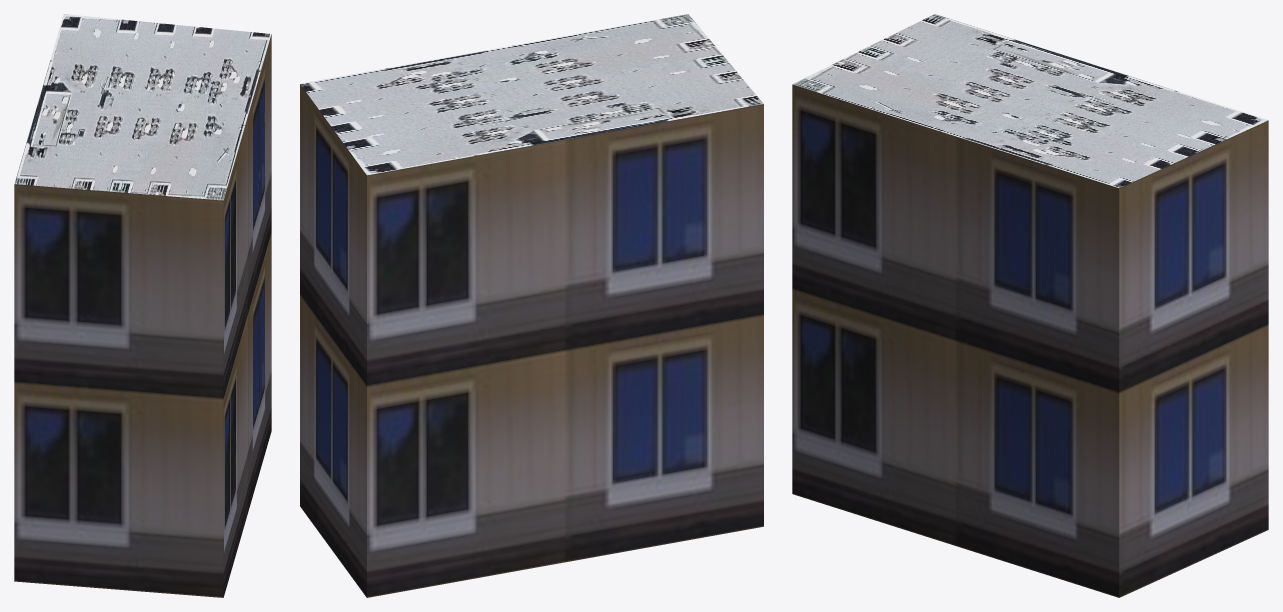
Rendered from ResTex__850.fbx.
3 renders of one model, left to right at view 1: azimuth 30°, elevation 25°; view 2: azimuth 150°, elevation 25°; view 3: azimuth 270°, elevation 25°, orthographic. The views are drawn at different scales.
Parts seen in each view (by area): view 1: CityEngineMaterial_5_m, CityEngineMaterial_4_m; view 2: CityEngineMaterial_5_m, CityEngineMaterial_4_m; view 3: CityEngineMaterial_5_m, CityEngineMaterial_4_m.
Boxes of the visible parts, bbox=[...] form: CityEngineMaterial_5_m: bbox=[14, 34, 271, 597]; CityEngineMaterial_4_m: bbox=[14, 14, 271, 200]; CityEngineMaterial_5_m: bbox=[300, 84, 763, 597]; CityEngineMaterial_4_m: bbox=[300, 14, 763, 175]; CityEngineMaterial_5_m: bbox=[792, 84, 1268, 597]; CityEngineMaterial_4_m: bbox=[792, 14, 1268, 188].
Size of the model in its own units: 5.48 by 6 by 6.33.
2 materials, 2 textured.
